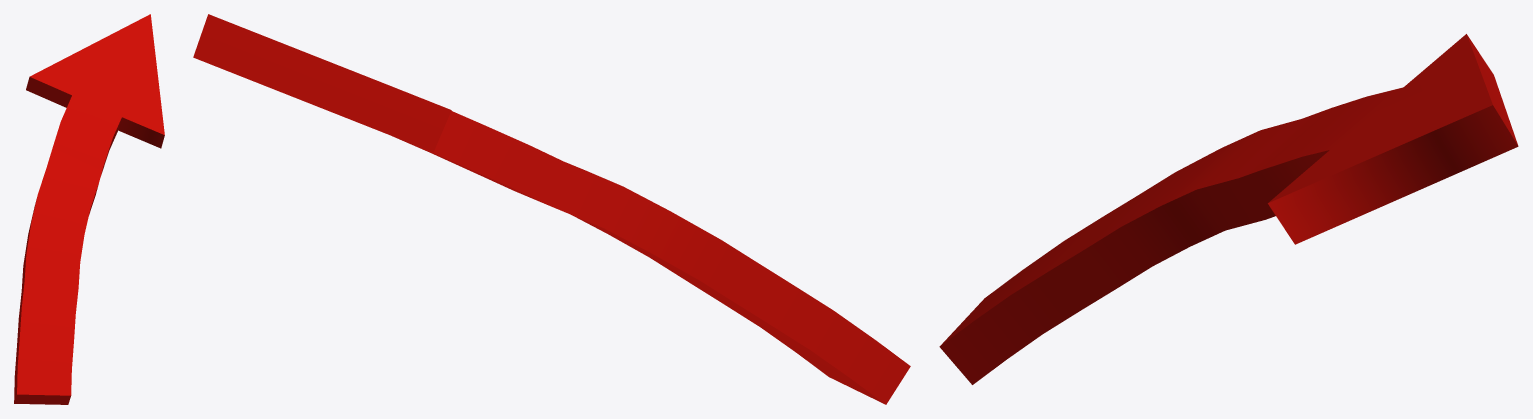
File: Arrow01.fbx
The picture shows the model from 3 angles, left to right: view 1: azimuth 30°, elevation 25°; view 2: azimuth 150°, elevation 25°; view 3: azimuth 270°, elevation 25°; orthographic projection. The views are drawn at different scales.
Visible parts, largest first — view 1: Cube.100; view 2: Cube.100; view 3: Cube.100.
Boxes of the visible parts, <box> form: Cube.100: <box>14,14,164,404</box>; Cube.100: <box>193,14,910,404</box>; Cube.100: <box>939,34,1518,384</box>.
Bounding box in the file's own units: 1.45 × 1.29 × 1.38.
